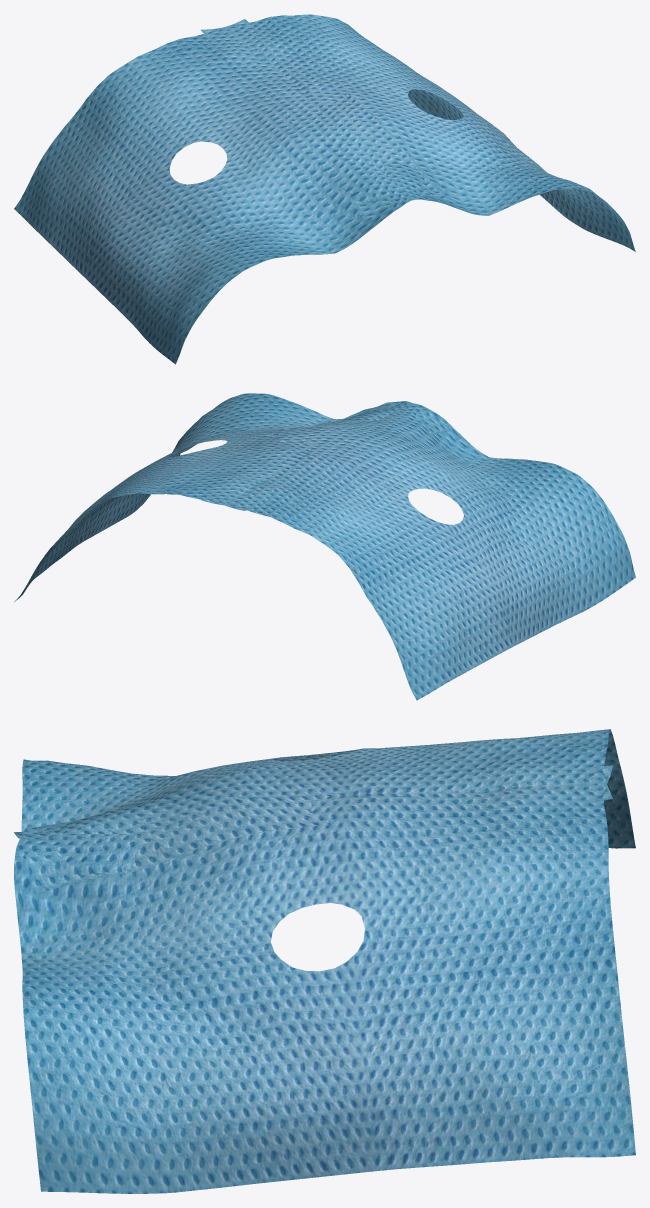
File: 腹穿铺巾.FBX
3 renders of one model, top to bottom at view 1: azimuth 30°, elevation 25°; view 2: azimuth 150°, elevation 25°; view 3: azimuth 270°, elevation 25°, orthographic. The views are drawn at different scales.
Visible parts, largest first — view 1: Sterile_hole_towel003, Sterile_hole_towel002; view 2: Sterile_hole_towel003, Sterile_hole_towel002; view 3: Sterile_hole_towel002, Sterile_hole_towel003.
Part boxes in pixels (x1,y1,x2,y2): Sterile_hole_towel003: (14,19,450,364); Sterile_hole_towel002: (201,14,635,251); Sterile_hole_towel003: (201,402,635,700); Sterile_hole_towel002: (14,393,450,601); Sterile_hole_towel002: (14,765,635,1193); Sterile_hole_towel003: (14,729,635,893).
Size of the model in its own units: 34.87 by 11.26 by 26.13.
Materials: 1 (1 with a texture image).
